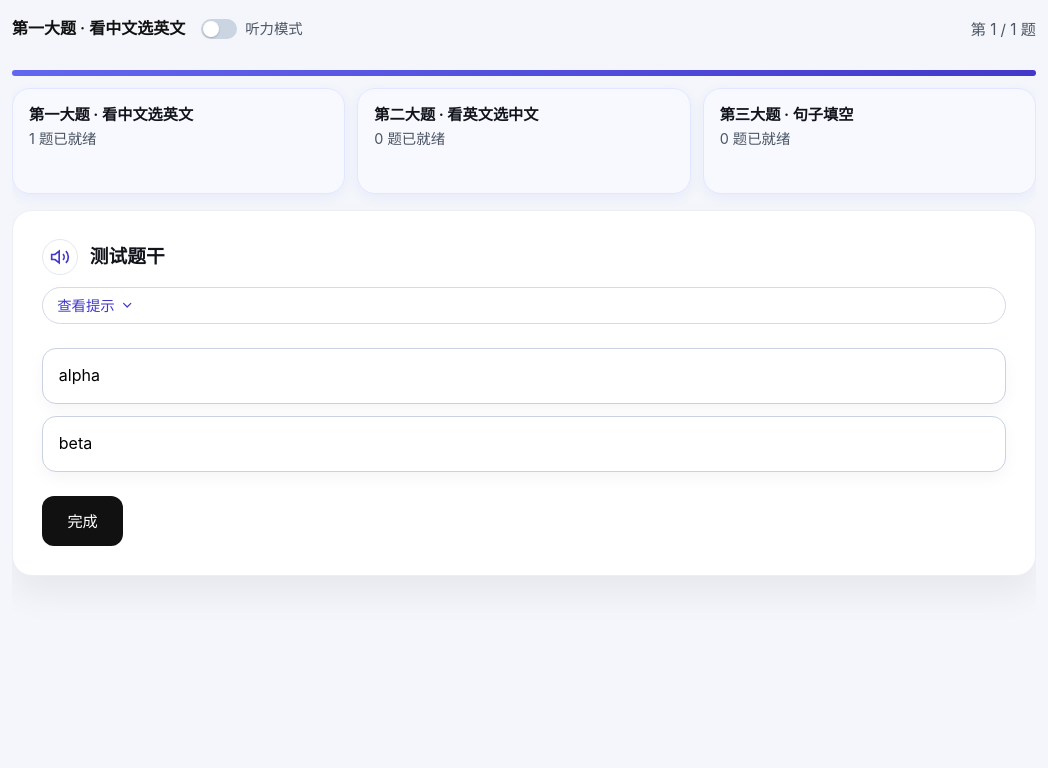
Test: QuizPage › 提示按钮可以展开与收起
The width and height of the screenshot is (1048, 768).
Click the button "查看提示" at coordinates (86, 305), box [42,287,1006,324]
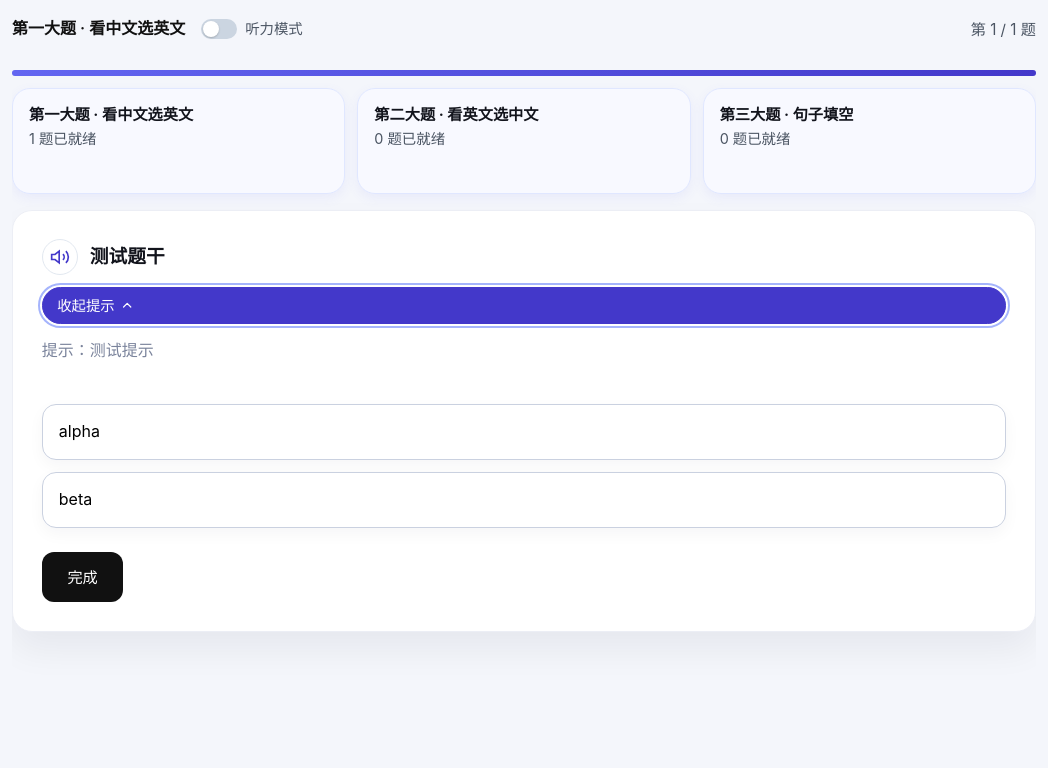
Result: the text "提示：测试提示" is shown at [42,340,154,360]
Click the button "收起提示" at coordinates (86, 305), box [42,287,1006,324]
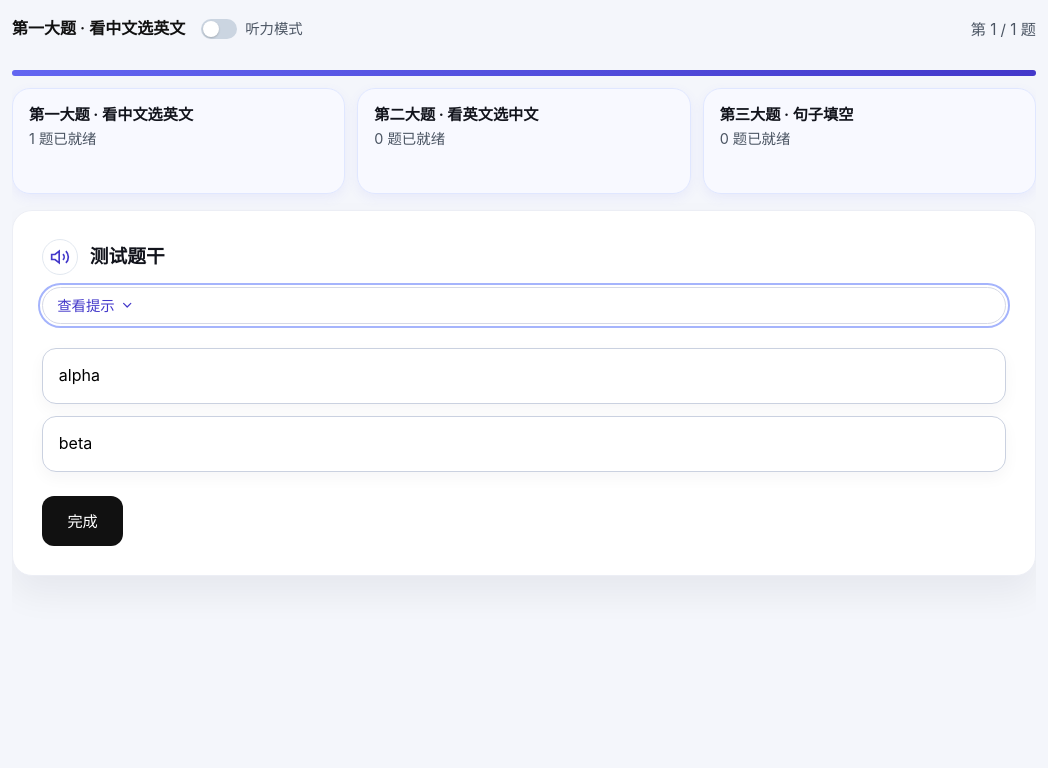
Result: the text "提示：测试提示" is gone
